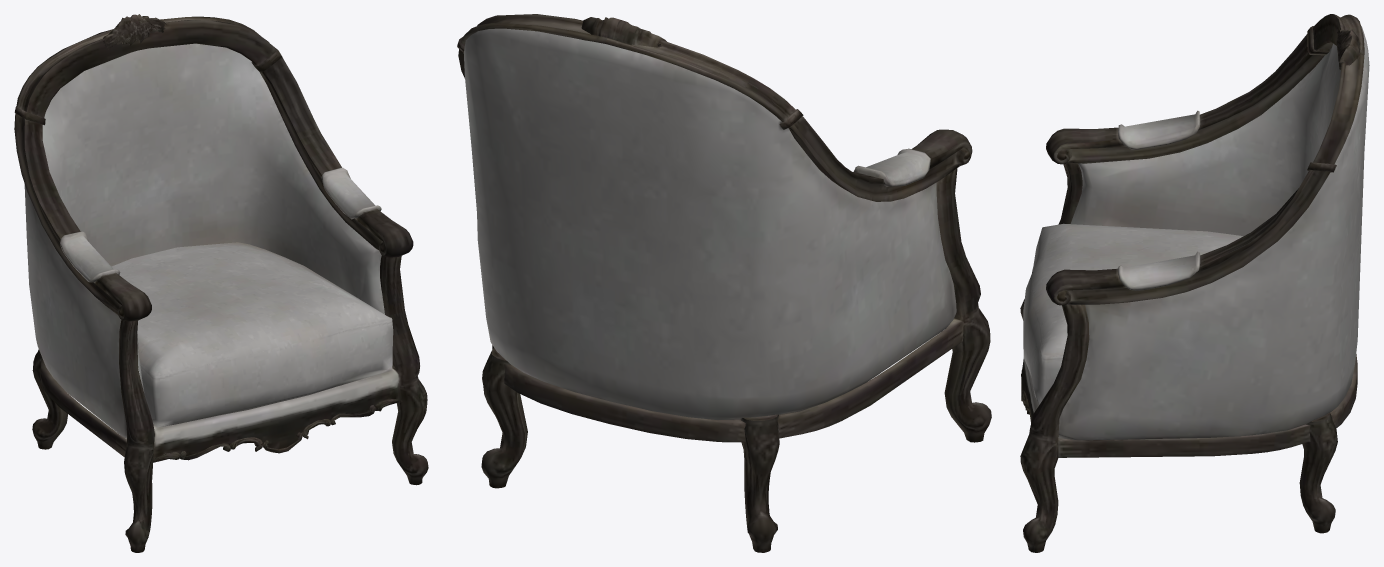
The model's file is ph-ArmChair_01.glb.
The picture shows the model from 3 angles, left to right: view 1: azimuth 30°, elevation 25°; view 2: azimuth 150°, elevation 25°; view 3: azimuth 270°, elevation 25°; orthographic projection. The views are drawn at different scales.
Parts seen in each view (by area): view 1: ArmChair_01; view 2: ArmChair_01; view 3: ArmChair_01.
Part boxes in pixels (box(x1,y1,x2,y2)): ArmChair_01: box(14, 14, 428, 552); ArmChair_01: box(457, 14, 991, 552); ArmChair_01: box(1020, 14, 1369, 552).
Size of the model in its own units: 0.8483 by 1.06 by 0.7658.
1 material, 1 textured.
